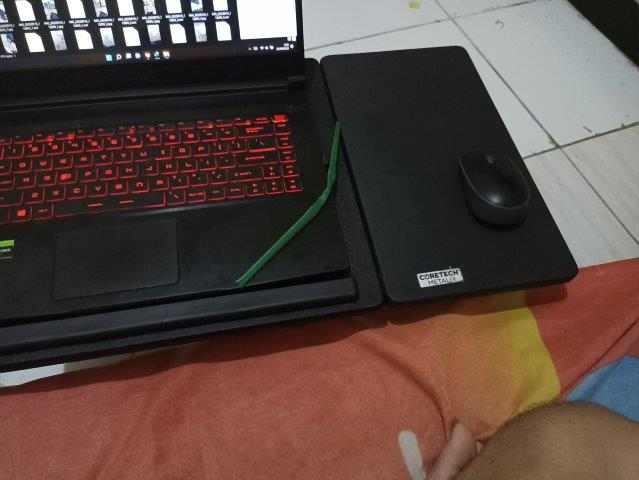sedotan: (236, 123, 341, 285)
